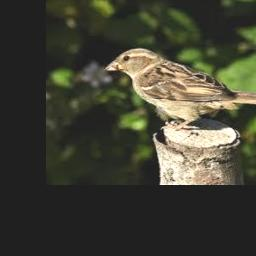Sparrow: (105, 47, 256, 129)
